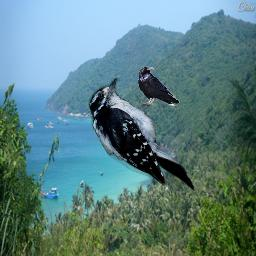Crow: (138, 66, 180, 109)
Woodpecker: (87, 78, 197, 191)
